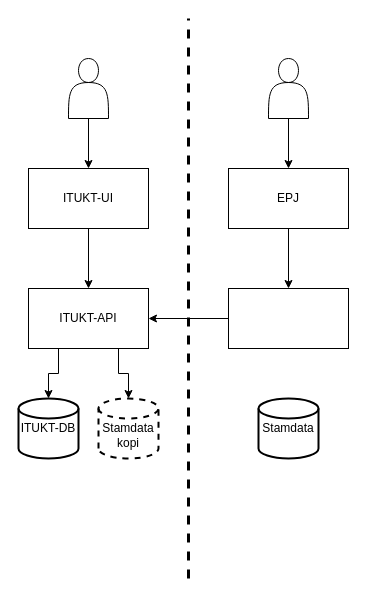
This 366x598 diagram has some shape labels left out. The shapes that lost their labels are listed below. From the top down, each one's centre as x and y in pixels, then its label:
point (88, 88): LMS
point (288, 88): Læge
point (288, 318): FMK
